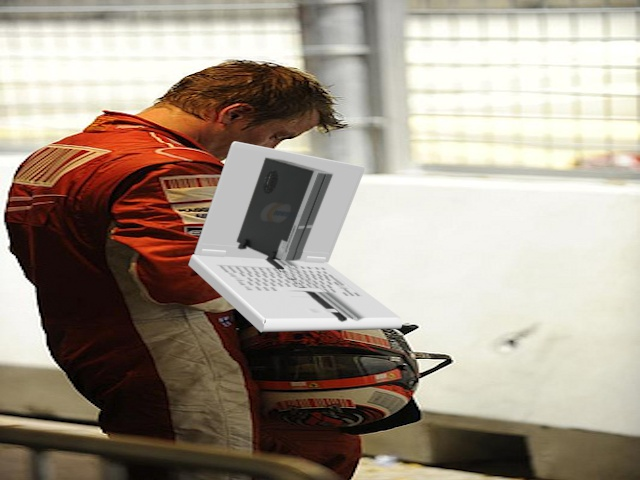laptop_computer: (185, 137, 408, 336)
